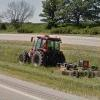Tractor: (14, 27, 70, 70)
